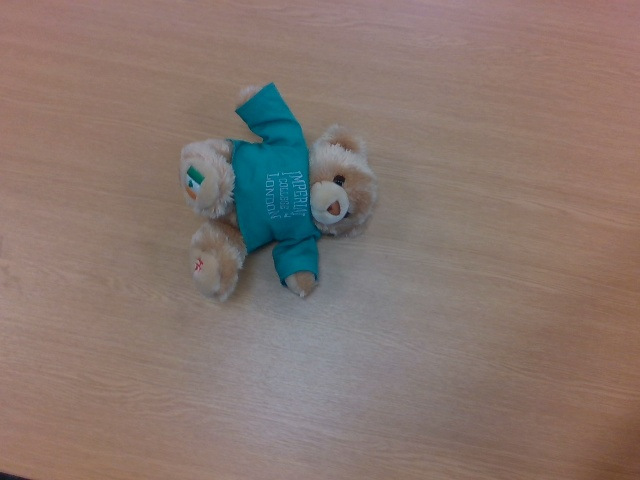teddy: (180, 82, 379, 301)
